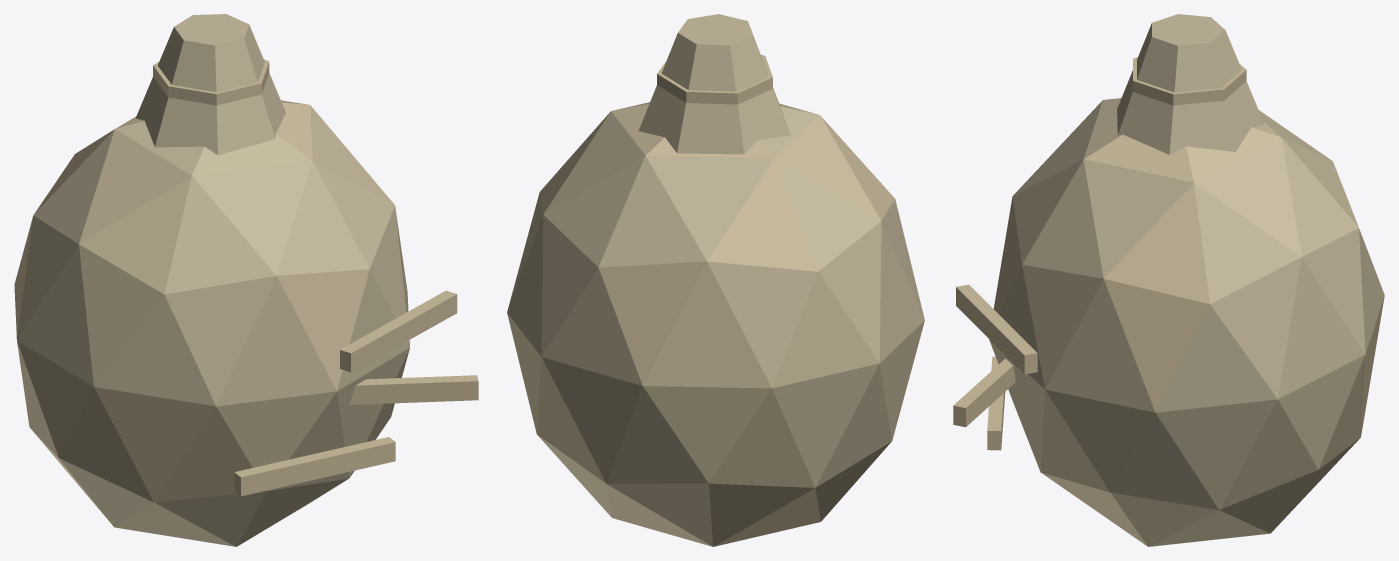
File: feed_sack.glb
The picture shows the model from 3 angles, left to right: view 1: azimuth 30°, elevation 25°; view 2: azimuth 150°, elevation 25°; view 3: azimuth 270°, elevation 25°; orthographic projection.
Visible parts, largest first — view 1: feed_sack; view 2: feed_sack; view 3: feed_sack.
Boxes of the visible parts, x1=… form: feed_sack: x1=14, y1=14, x2=478, y2=546; feed_sack: x1=507, y1=14, x2=924, y2=546; feed_sack: x1=953, y1=14, x2=1384, y2=546.
Bounding box in the file's own units: 0.59 × 0.7944 × 0.6135.
